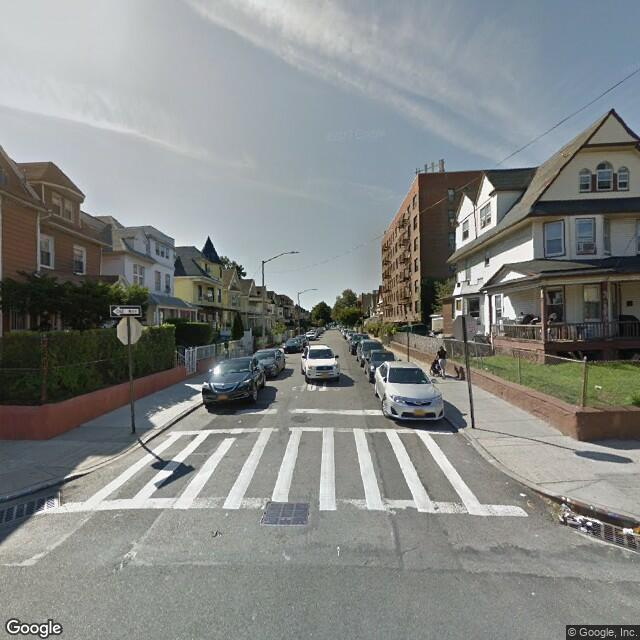litter: (545, 498, 595, 536), (619, 522, 638, 544)
